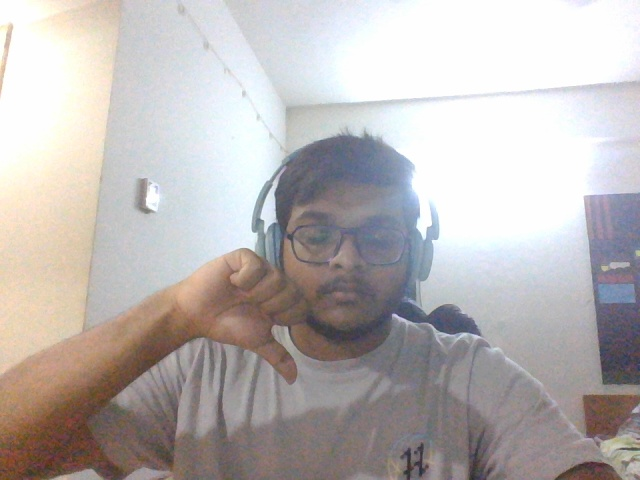ThumbsDown: (182, 249, 309, 384)
